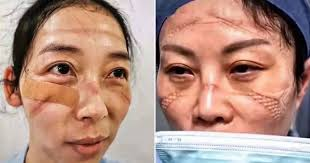mask_weared_incorrect: (161, 35, 293, 158)
without_mask: (36, 40, 131, 160)
